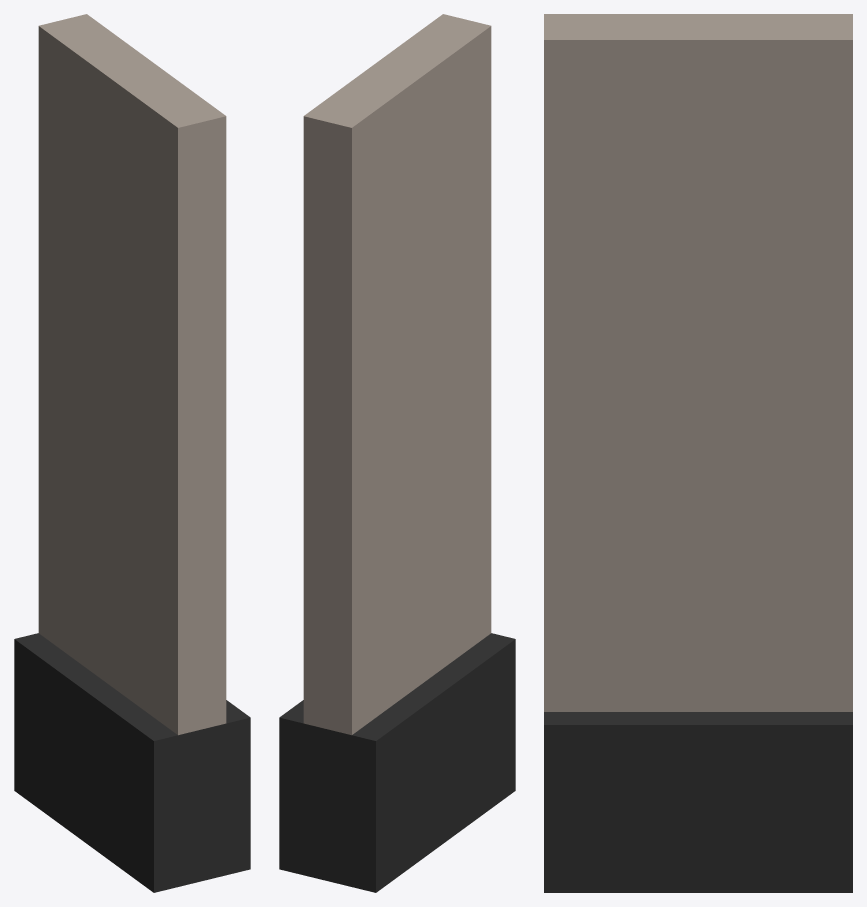
Rendered from 1metro.fbx.
3 views of the same model, side by side, from view 1: azimuth 30°, elevation 25°; view 2: azimuth 150°, elevation 25°; view 3: azimuth 270°, elevation 25° (orthographic). The views are drawn at different scales.
Visible parts, largest first — view 1: Parede.071; view 2: Parede.071; view 3: Parede.071.
Part boxes in pixels (left/top/right/bottom): Parede.071: left=14, top=14, right=250, bottom=892; Parede.071: left=279, top=14, right=515, bottom=892; Parede.071: left=544, top=14, right=852, bottom=892.
Bounding box in the file's own units: 40.01 × 300 × 100.
